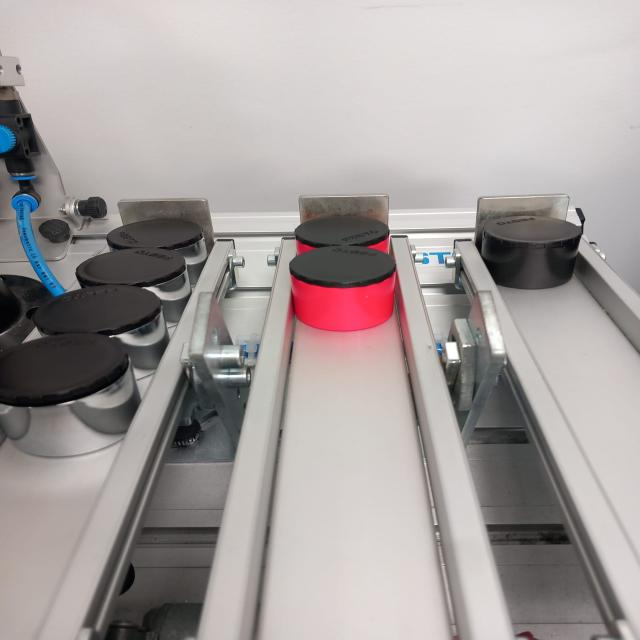Workpiece: (0, 328, 152, 463), (61, 237, 206, 328), (28, 288, 172, 366), (289, 247, 403, 339), (471, 208, 591, 292), (107, 207, 223, 264), (294, 212, 394, 259)
